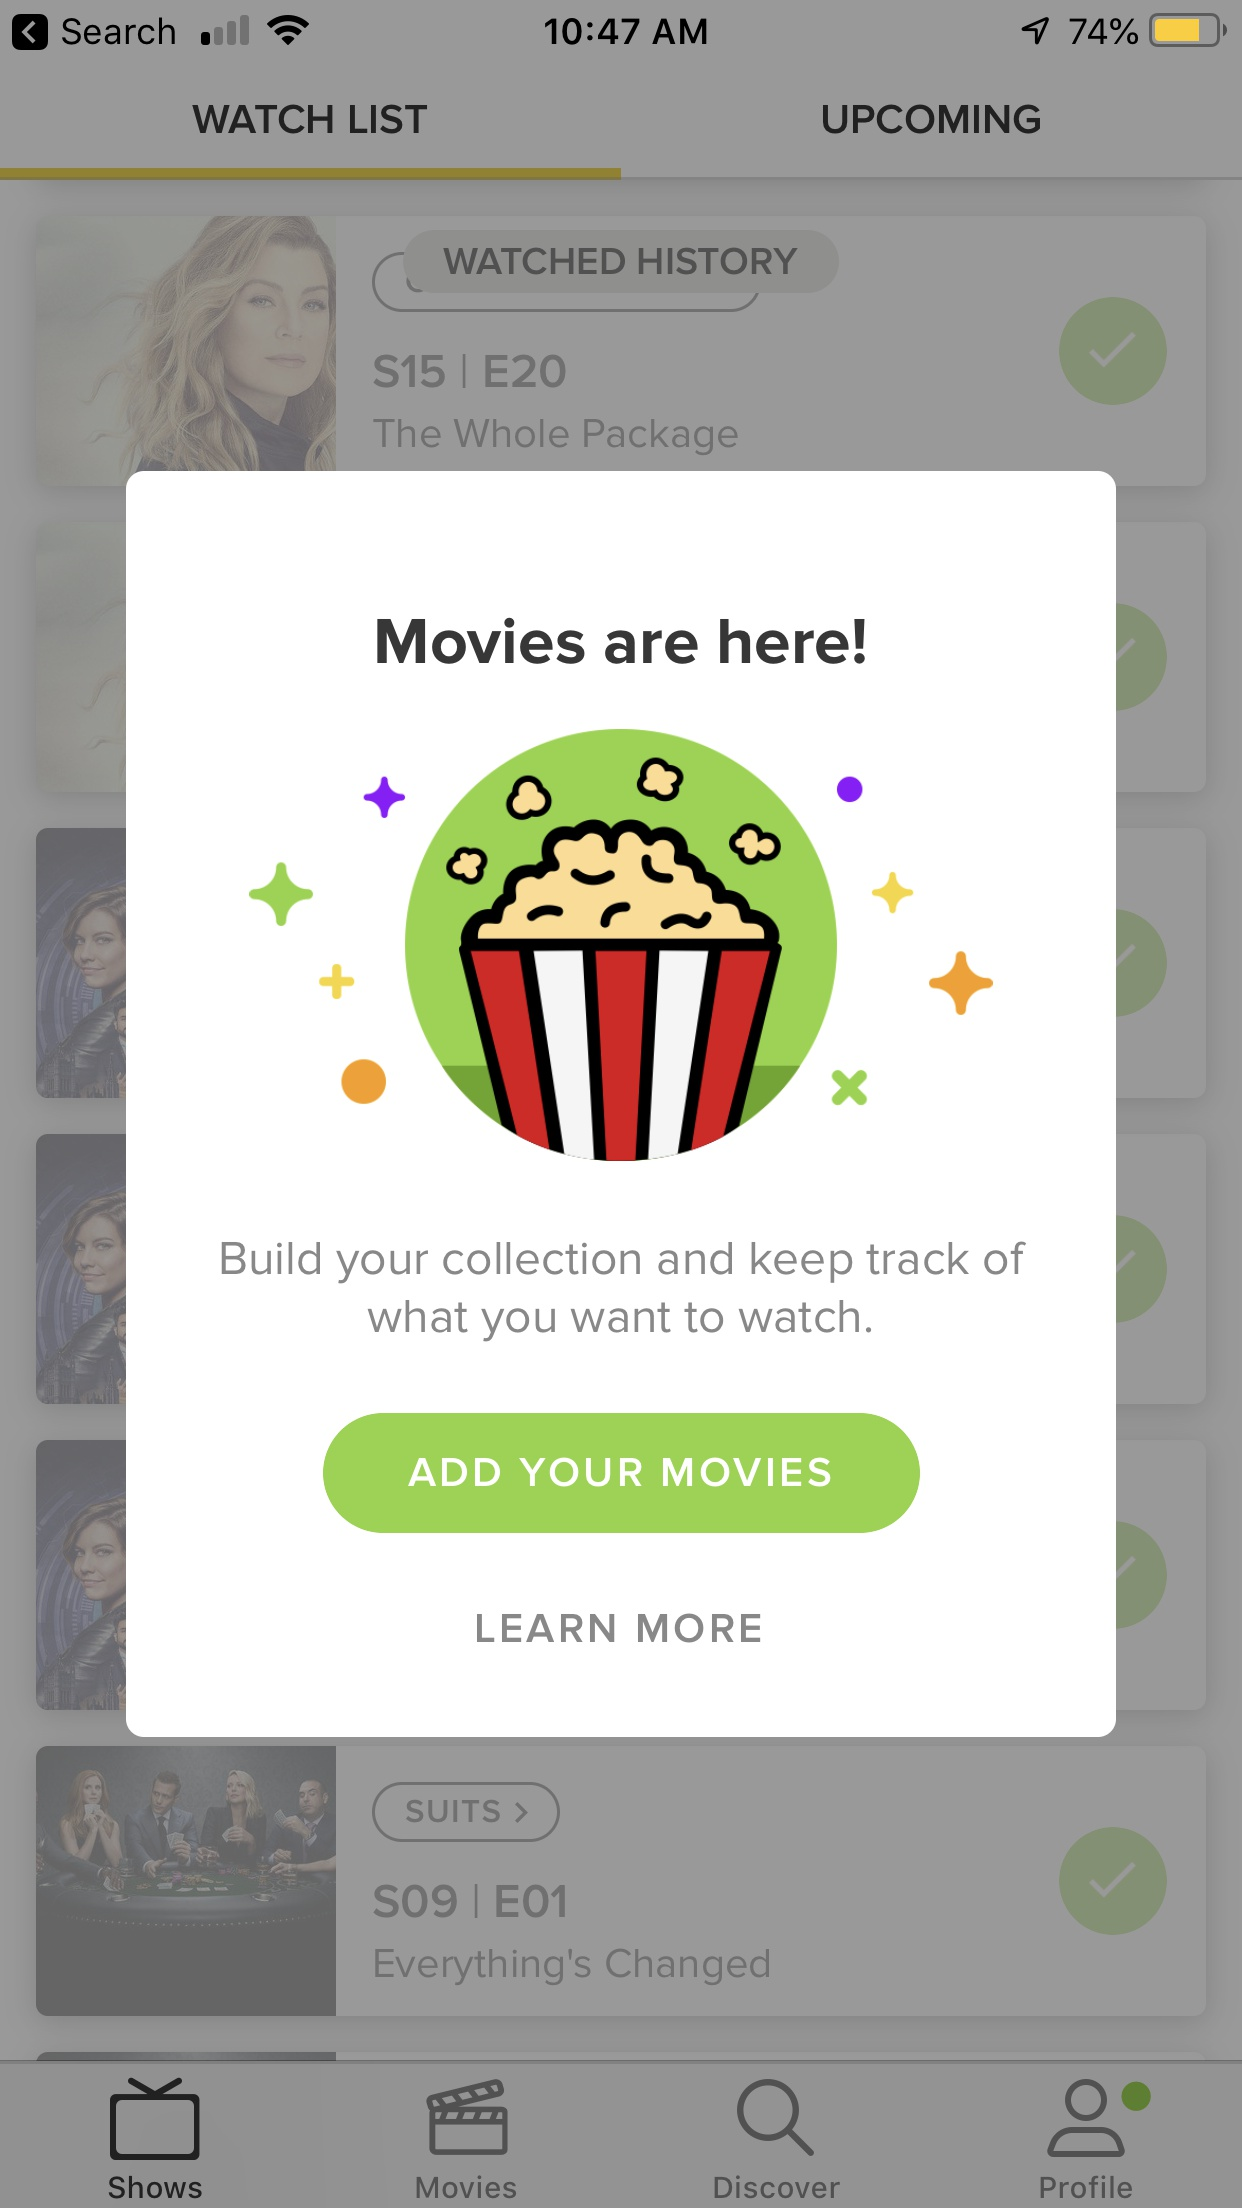Image: (249, 729, 995, 1163)
Modal: (126, 472, 1118, 1738)
Text: (221, 1242, 1027, 1344), (378, 617, 866, 666), (478, 1614, 761, 1644)
TextButton: (323, 1412, 921, 1535)
UpperTaskBar: (2, 2, 1242, 49)
